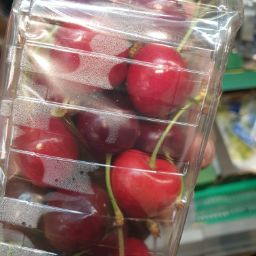Cherry: (4, 83, 186, 256), (19, 7, 197, 152), (41, 18, 201, 130), (12, 130, 187, 223), (97, 143, 187, 223), (116, 41, 198, 117), (4, 120, 84, 193)
